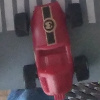rojo_norte: (15, 2, 89, 100)
